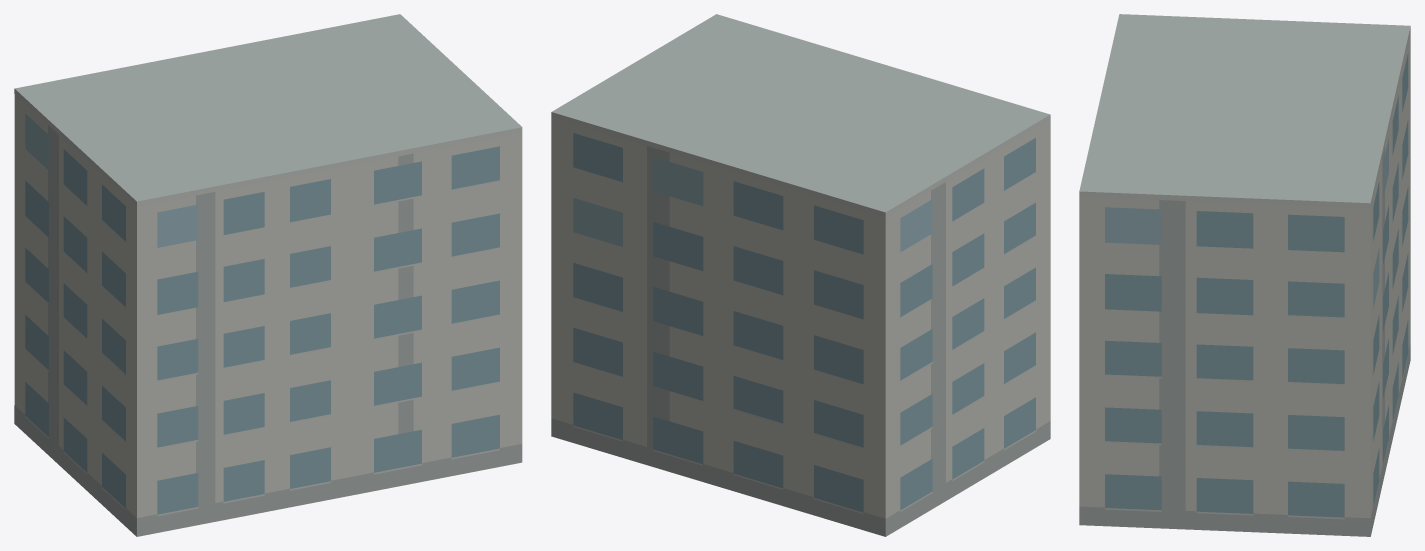
The model's file is residential-473fd381-13cf-4537-8178-6a55fd8d3b6a.glb.
The picture shows the model from 3 angles, left to right: view 1: azimuth 30°, elevation 25°; view 2: azimuth 150°, elevation 25°; view 3: azimuth 270°, elevation 25°; orthographic projection. The views are drawn at different scales.
Parts seen in each view (by area): view 1: residential-473fd381-13cf-4537-8178-6a55fd8d3b6a.tmp; view 2: residential-473fd381-13cf-4537-8178-6a55fd8d3b6a.tmp; view 3: residential-473fd381-13cf-4537-8178-6a55fd8d3b6a.tmp.
Boxes of the visible parts, x1,y1,x2,y2 form: residential-473fd381-13cf-4537-8178-6a55fd8d3b6a.tmp: (14,14,522,536); residential-473fd381-13cf-4537-8178-6a55fd8d3b6a.tmp: (551,14,1050,536); residential-473fd381-13cf-4537-8178-6a55fd8d3b6a.tmp: (1079,14,1410,536).
Size of the model in its own units: 18.56 by 15.25 by 13.74.
